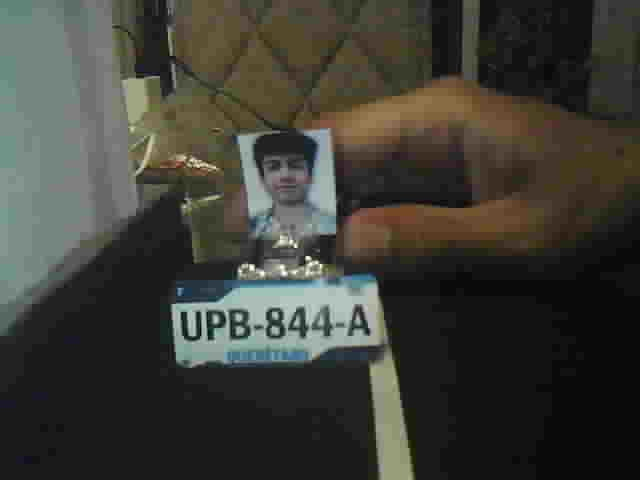PLACA: (167, 271, 381, 369)
ROSTRO: (246, 134, 335, 233)
